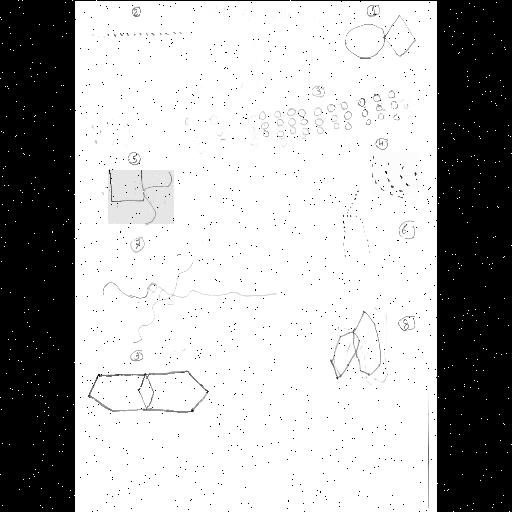shape-1: (345, 14, 415, 58)
shape-2: (106, 28, 188, 38)
shape-3: (260, 86, 400, 136)
shape-4: (370, 152, 418, 198)
shape-5: (108, 170, 174, 224)
shape-6: (342, 188, 372, 258)
shape-7: (104, 262, 276, 346)
shape-8: (330, 312, 382, 380)
shape-9: (87, 368, 209, 416)
